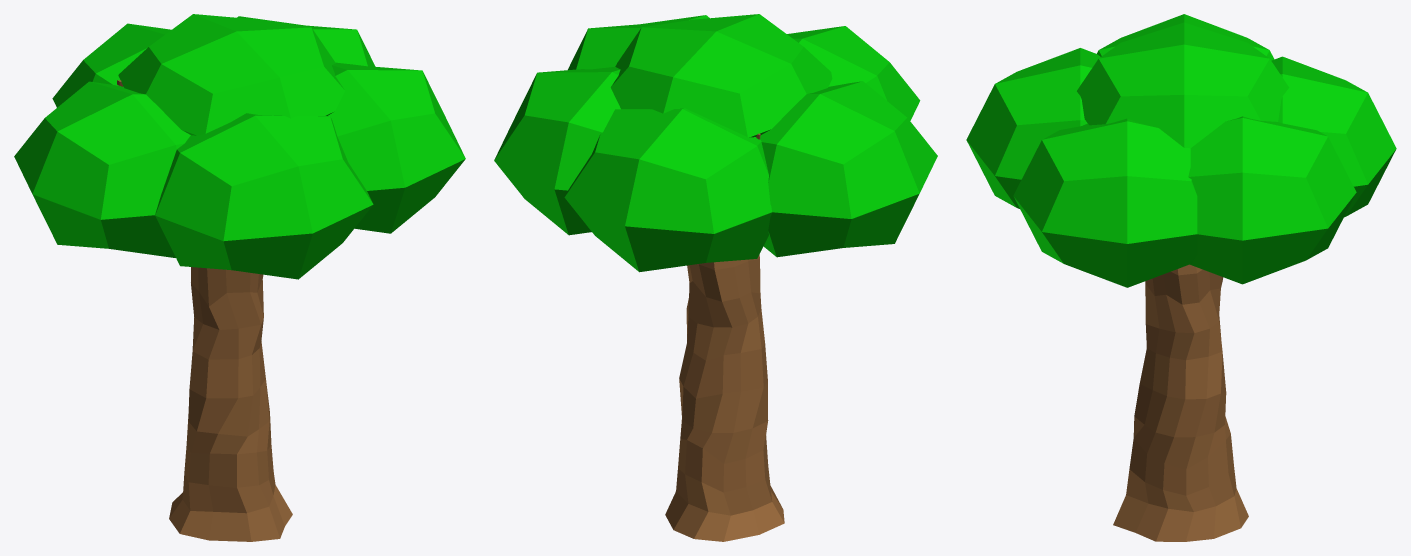
The model's file is Trees05.fbx.
The picture shows the model from 3 angles, left to right: view 1: azimuth 30°, elevation 25°; view 2: azimuth 150°, elevation 25°; view 3: azimuth 270°, elevation 25°; orthographic projection.
Parts seen in each view (by area): view 1: Tree05; view 2: Tree05; view 3: Tree05.
Part boxes in pixels (x1,y1,x2,y2): Tree05: (14,14,465,541); Tree05: (494,14,937,541); Tree05: (966,14,1396,541).
Bounding box in the file's own units: 1056 × 1261 × 1031.
